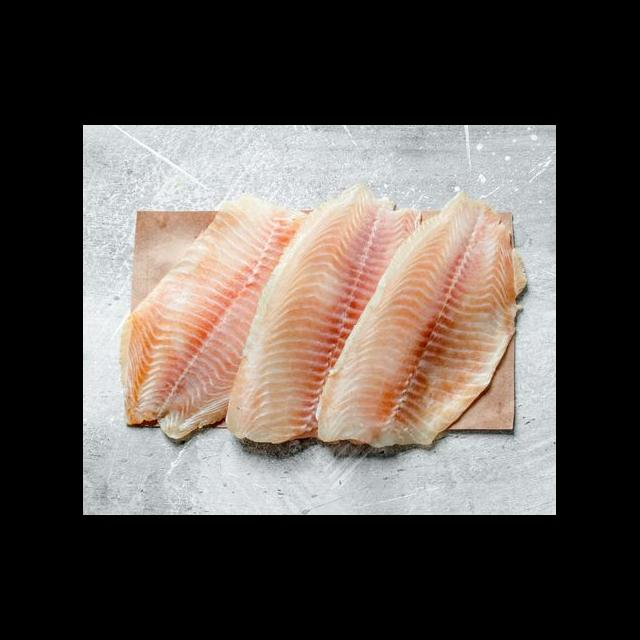fish: (306, 192, 531, 450)
